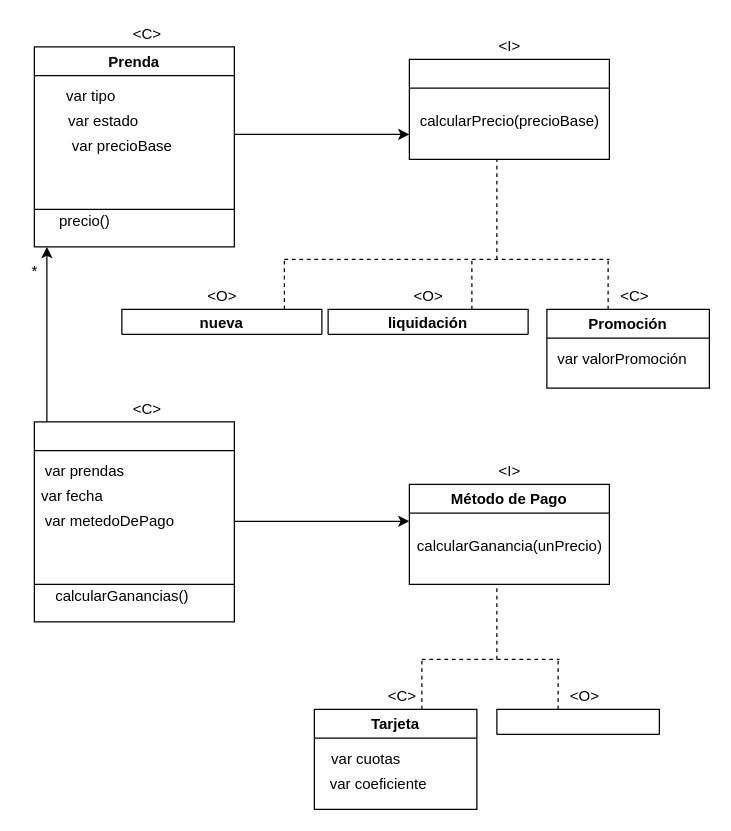
Some shapes in this 731 by 831 pixel diagram are drawn without their labels. The box of each missing label's shape, as (x1, y1, x2, y2) in pixels:
efectivo: (496, 708, 659, 734)
Estado: (408, 58, 609, 159)
Venta: (33, 421, 234, 622)
